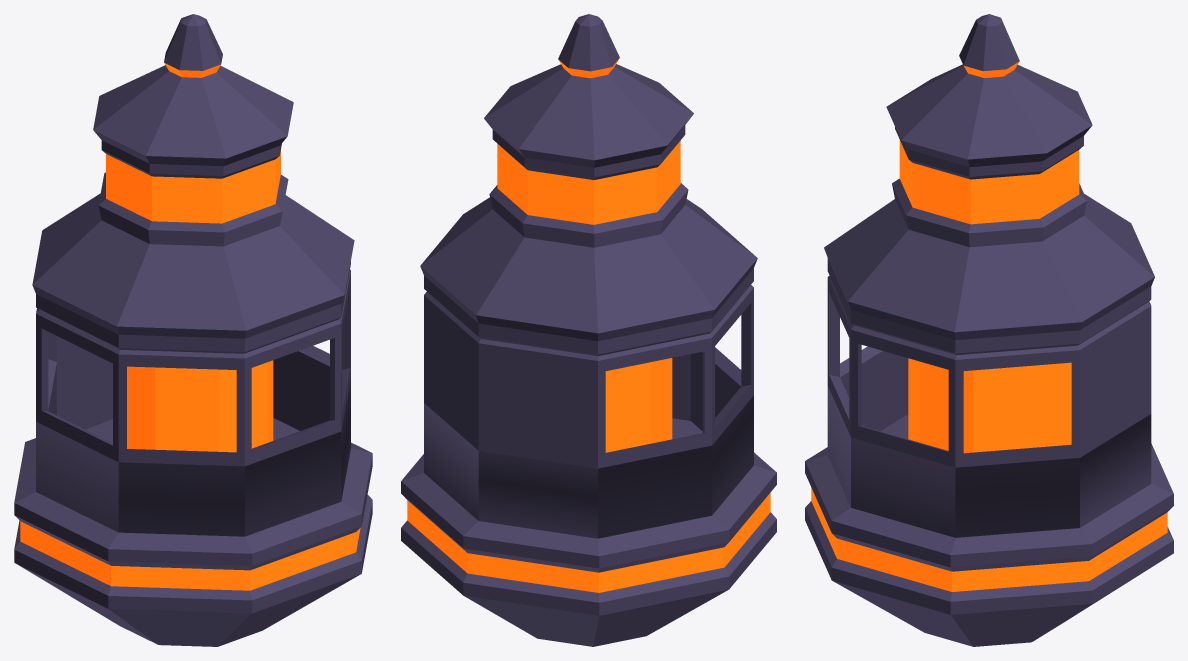
The model's file is Fly_House_04.fbx.
3 renders of one model, left to right at view 1: azimuth 30°, elevation 25°; view 2: azimuth 150°, elevation 25°; view 3: azimuth 270°, elevation 25°, orthographic.
Visible parts, largest first — view 1: Fly_House_04; view 2: Fly_House_04; view 3: Fly_House_04.
Part boxes in pixels (x1,y1,x2,y2): Fly_House_04: [14, 14, 372, 646]; Fly_House_04: [401, 14, 776, 646]; Fly_House_04: [805, 14, 1173, 646].
Bounding box in the file's own units: 817 × 1470 × 817.
